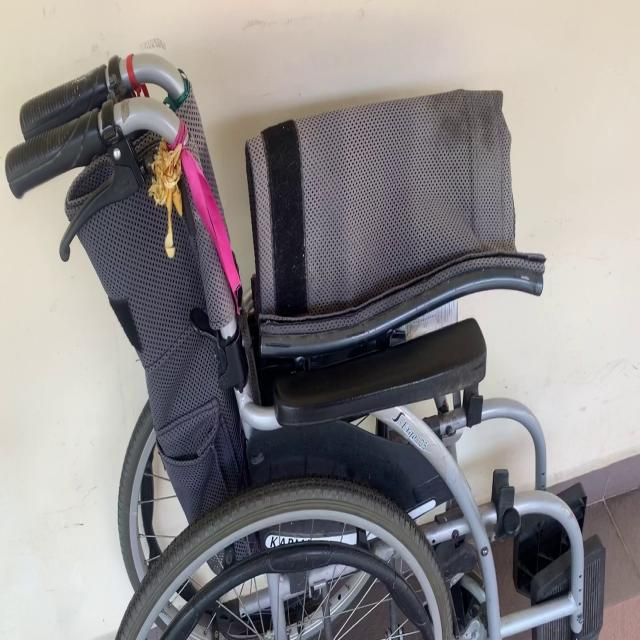wheelchair: (2, 43, 614, 640)
